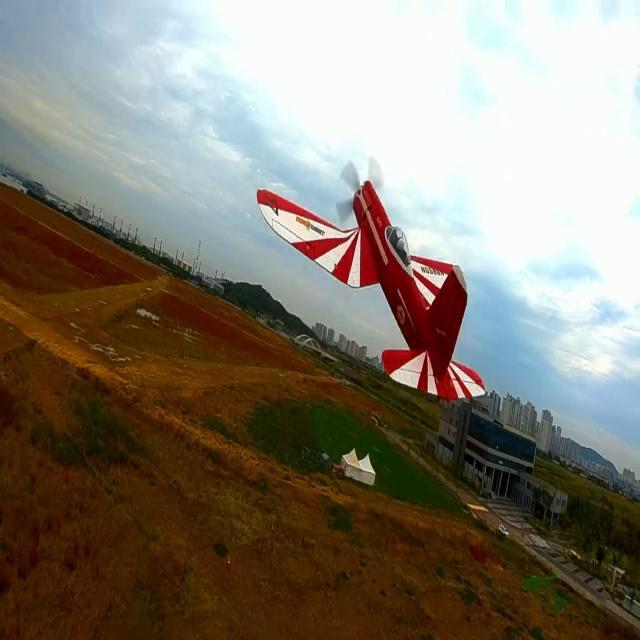iha: (236, 135, 489, 386)
